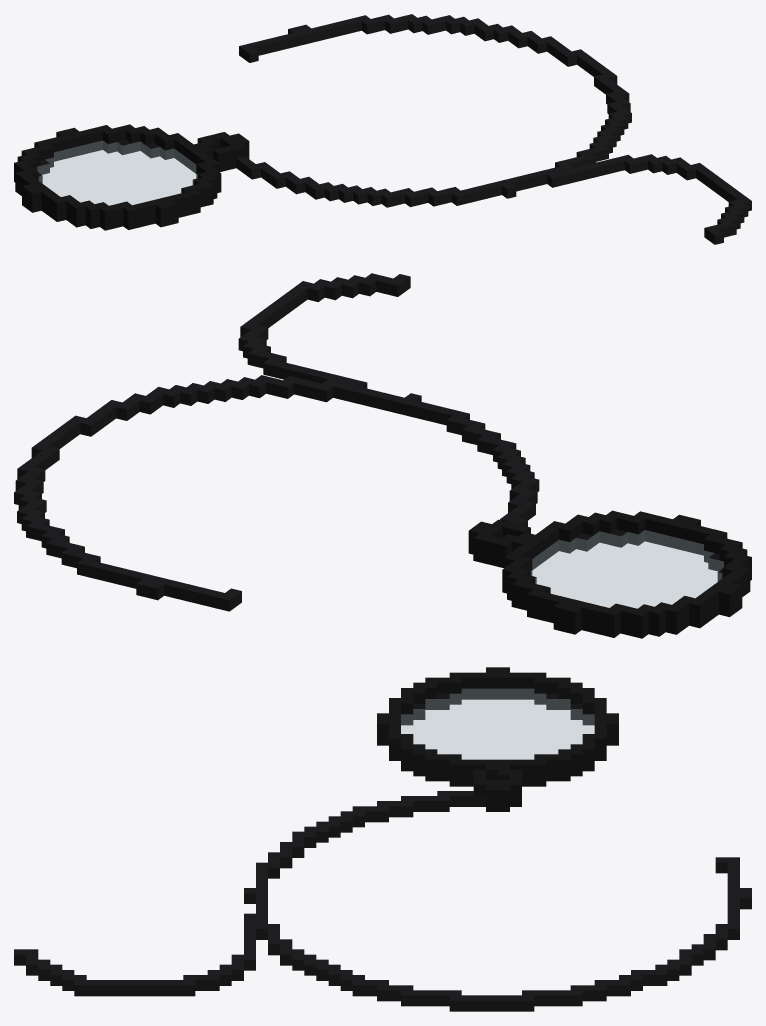
The model's file is glasses_monocle.glb.
3 views of the same model, one above another, from view 1: azimuth 30°, elevation 25°; view 2: azimuth 150°, elevation 25°; view 3: azimuth 270°, elevation 25° (orthographic). The views are drawn at different scales.
Parts seen in each view (by area): view 1: glasses_monocle:compound; view 2: glasses_monocle:compound; view 3: glasses_monocle:compound.
Boxes of the visible parts, left/top/right/bottom form: glasses_monocle:compound: left=14, top=14, right=751, bottom=244; glasses_monocle:compound: left=14, top=273, right=751, bottom=638; glasses_monocle:compound: left=14, top=667, right=751, bottom=1011.
Bounding box in the file's own units: 0.126 × 0.004 × 0.122.
